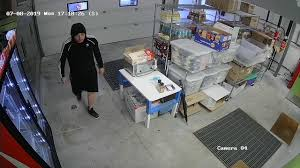Person: (57, 22, 105, 121)
